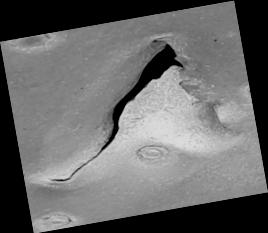crack: (1, 0, 268, 232)
